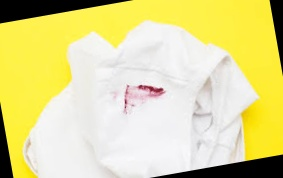lipstick: (119, 76, 169, 116)
